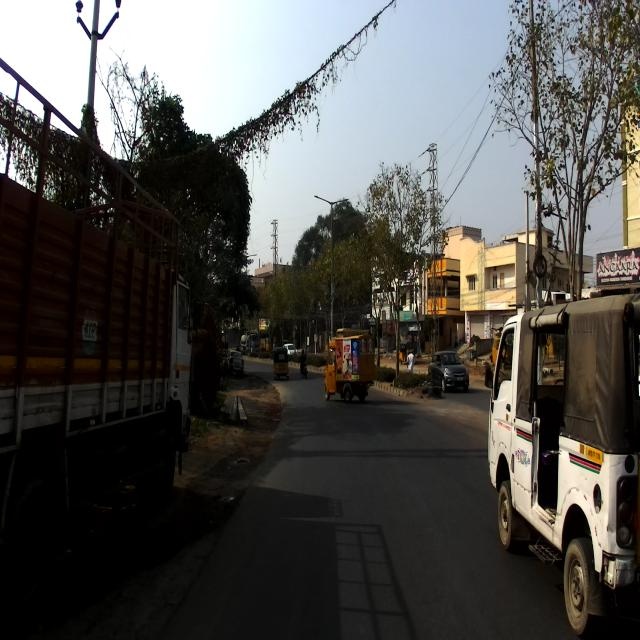auto ahead at: (322, 321, 379, 414)
car ahead at: (488, 301, 640, 626)
truck ahead at: (0, 56, 199, 572)
